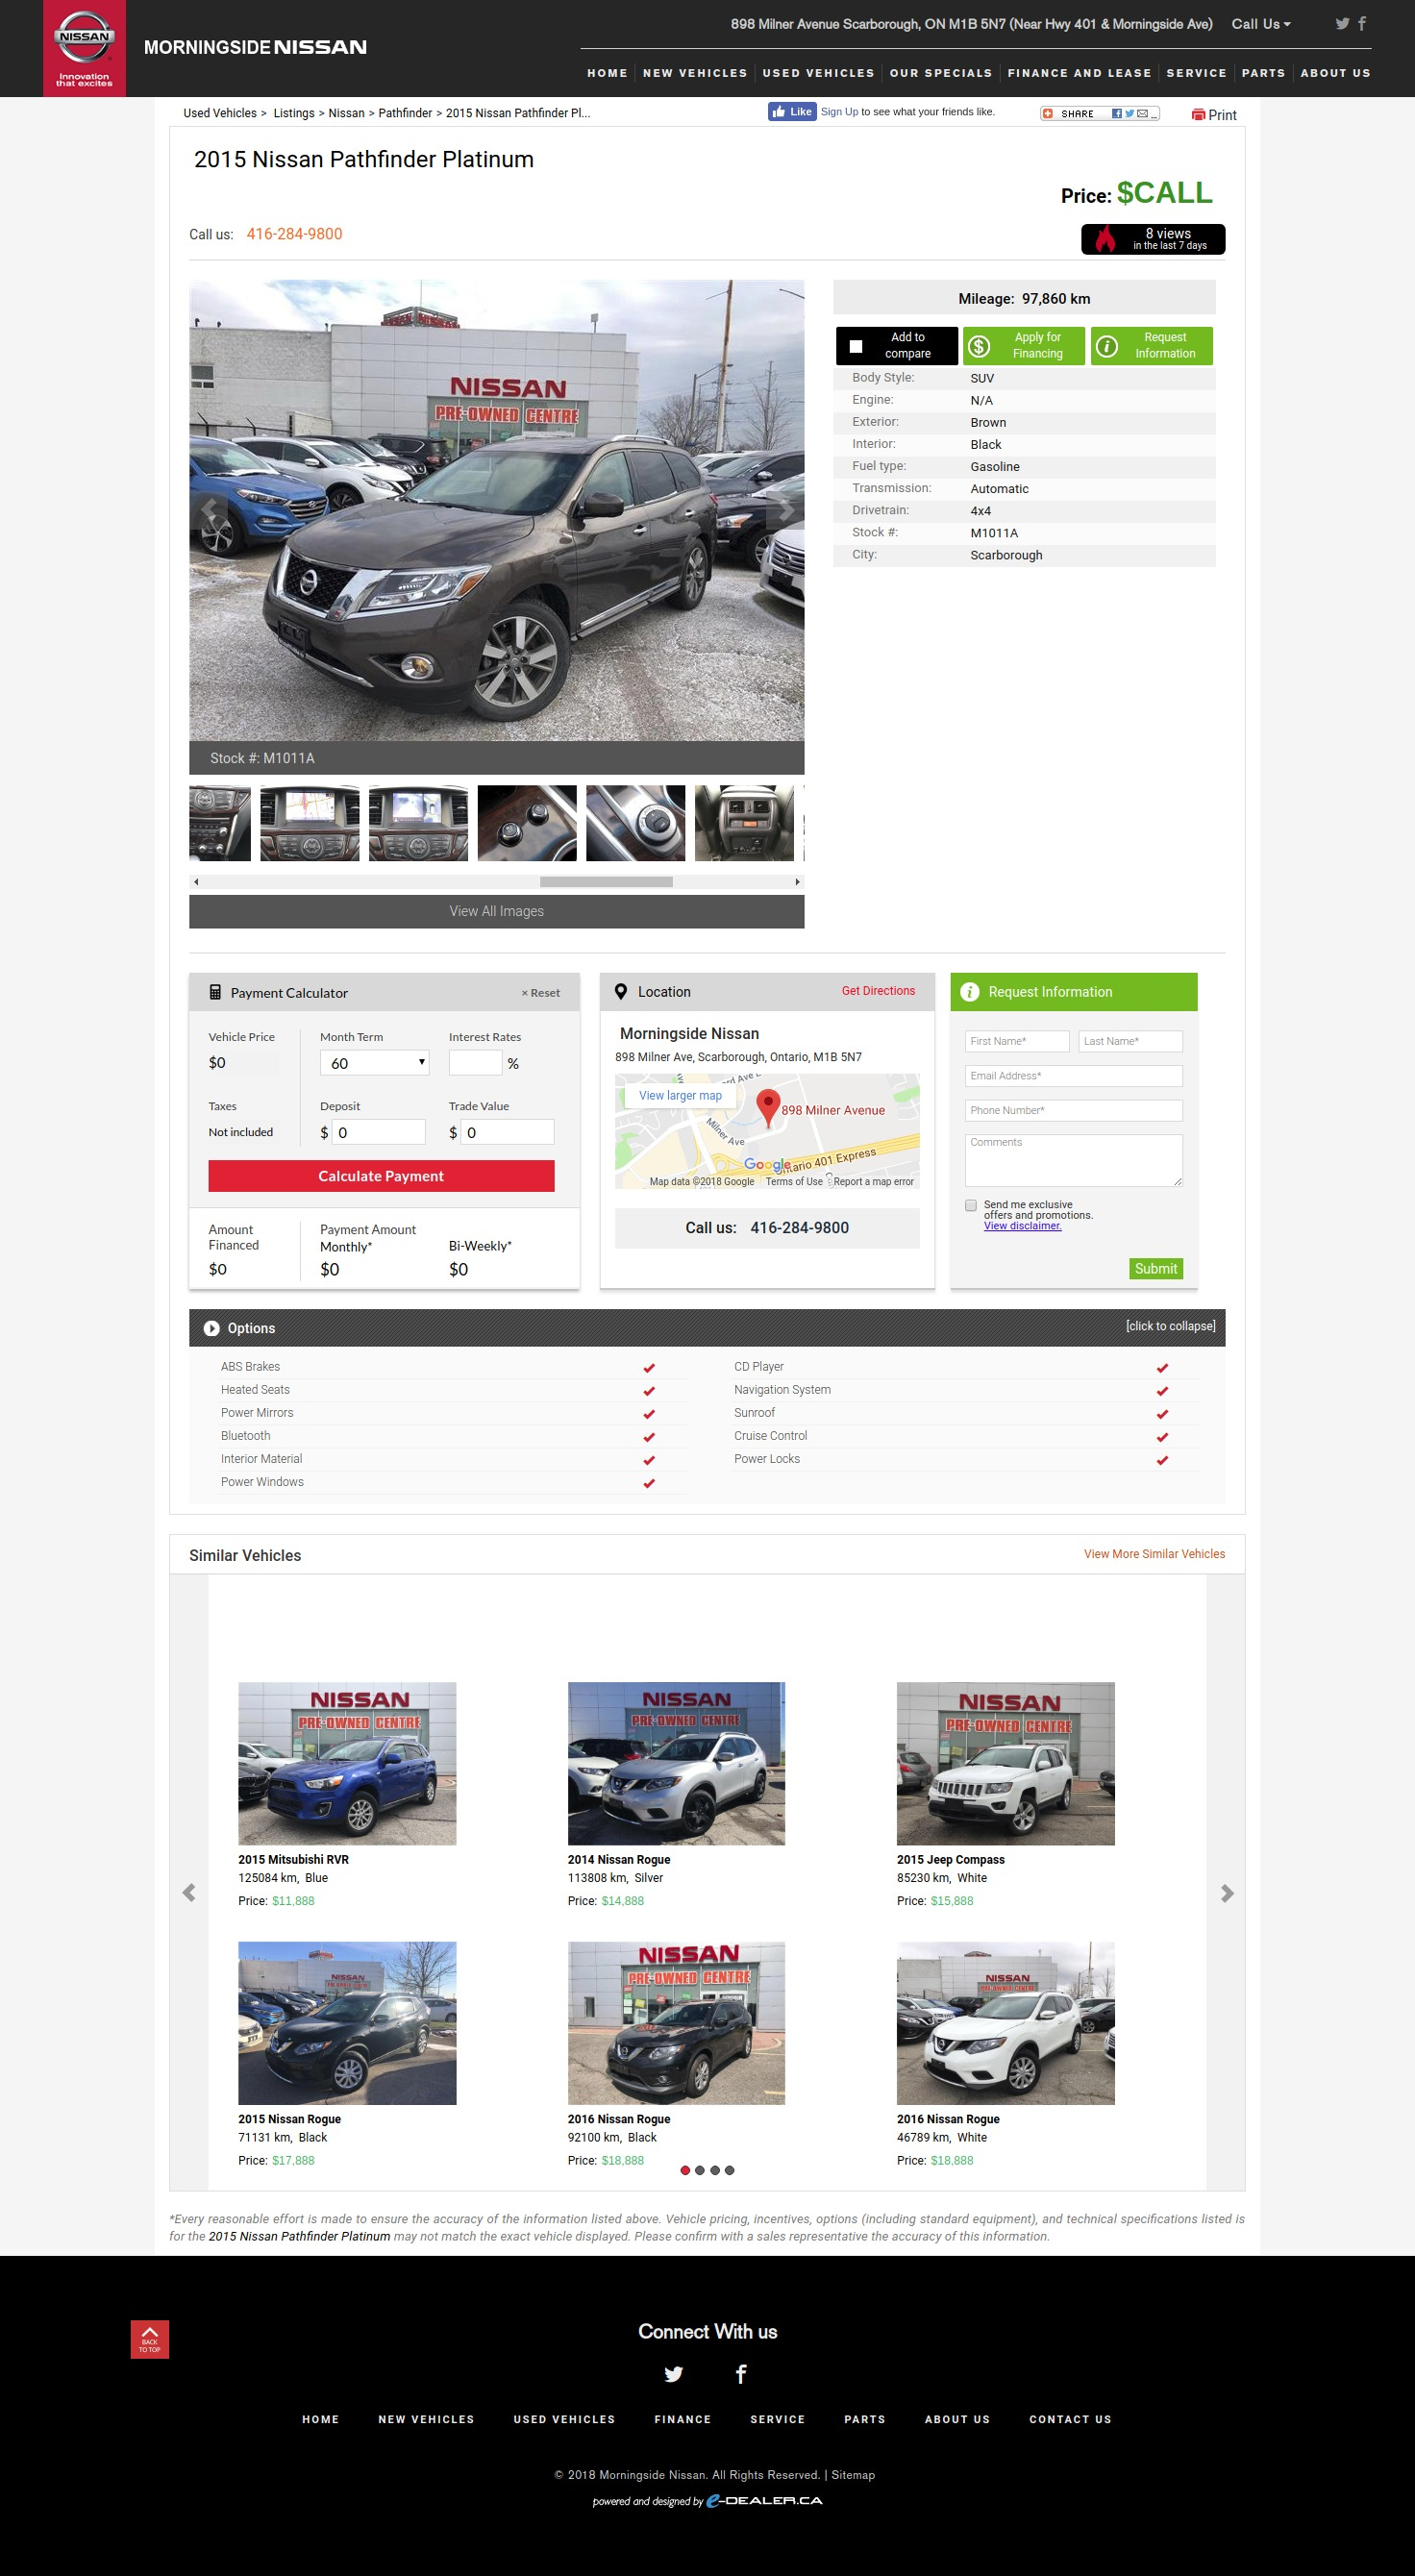car: (795, 878, 802, 887)
